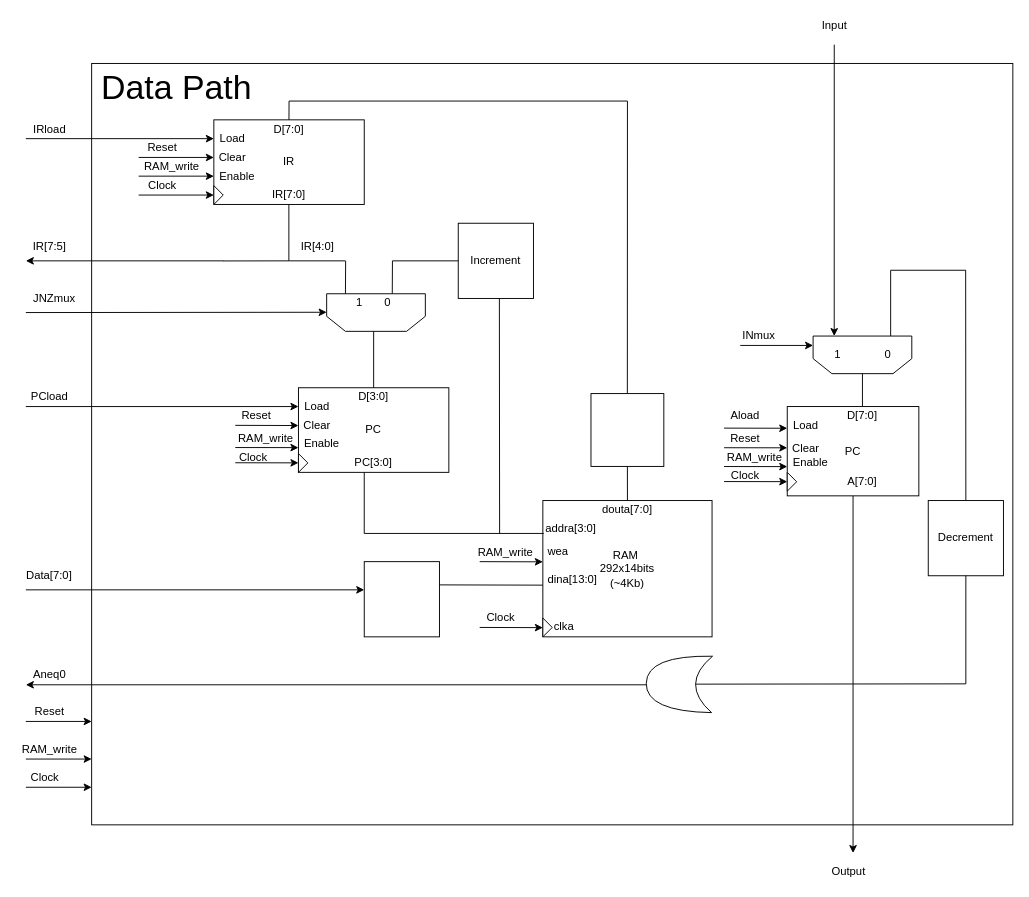
Some shapes in this 1029 by 897 pixel diagram are drawn without their labels. Here are the shapes that lost their labels. From the top down, the centre of each, then its label:
At point 627,429: "Overlapping parity decoder".
At point 401,599: "Overlapping parity encoder".
